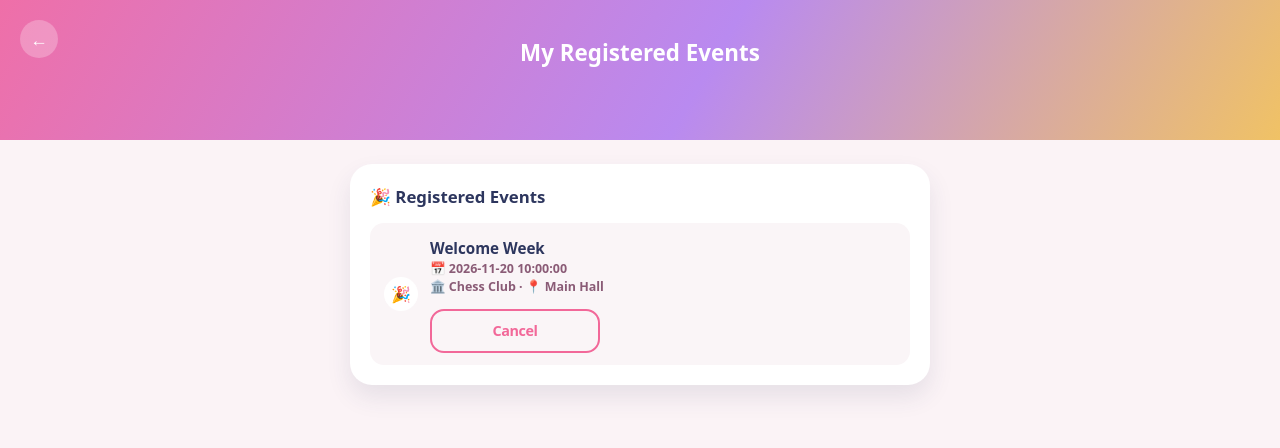
Test: MyEventsPage › keeps the event and shows the error if cancelling fails
Click the button "Cancel": [515, 331] box [430,309,600,353]
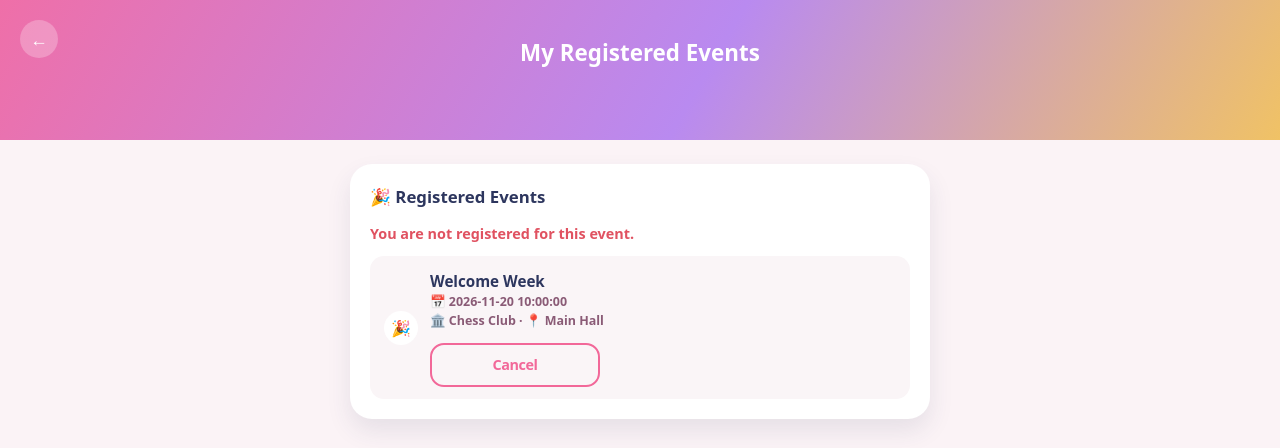
Expected: the text "Welcome Week" is shown, [430,271,545,291]
Now the text "You are not registered for this event." is shown, box [370,224,634,243]
